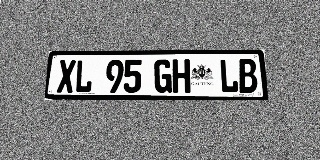5: (123, 60, 142, 93)
9: (105, 60, 124, 93)
B: (238, 59, 258, 93)
G: (154, 59, 172, 93)
H: (172, 59, 190, 93)
L: (219, 59, 239, 93), (74, 60, 93, 93)
X: (57, 60, 76, 93)
